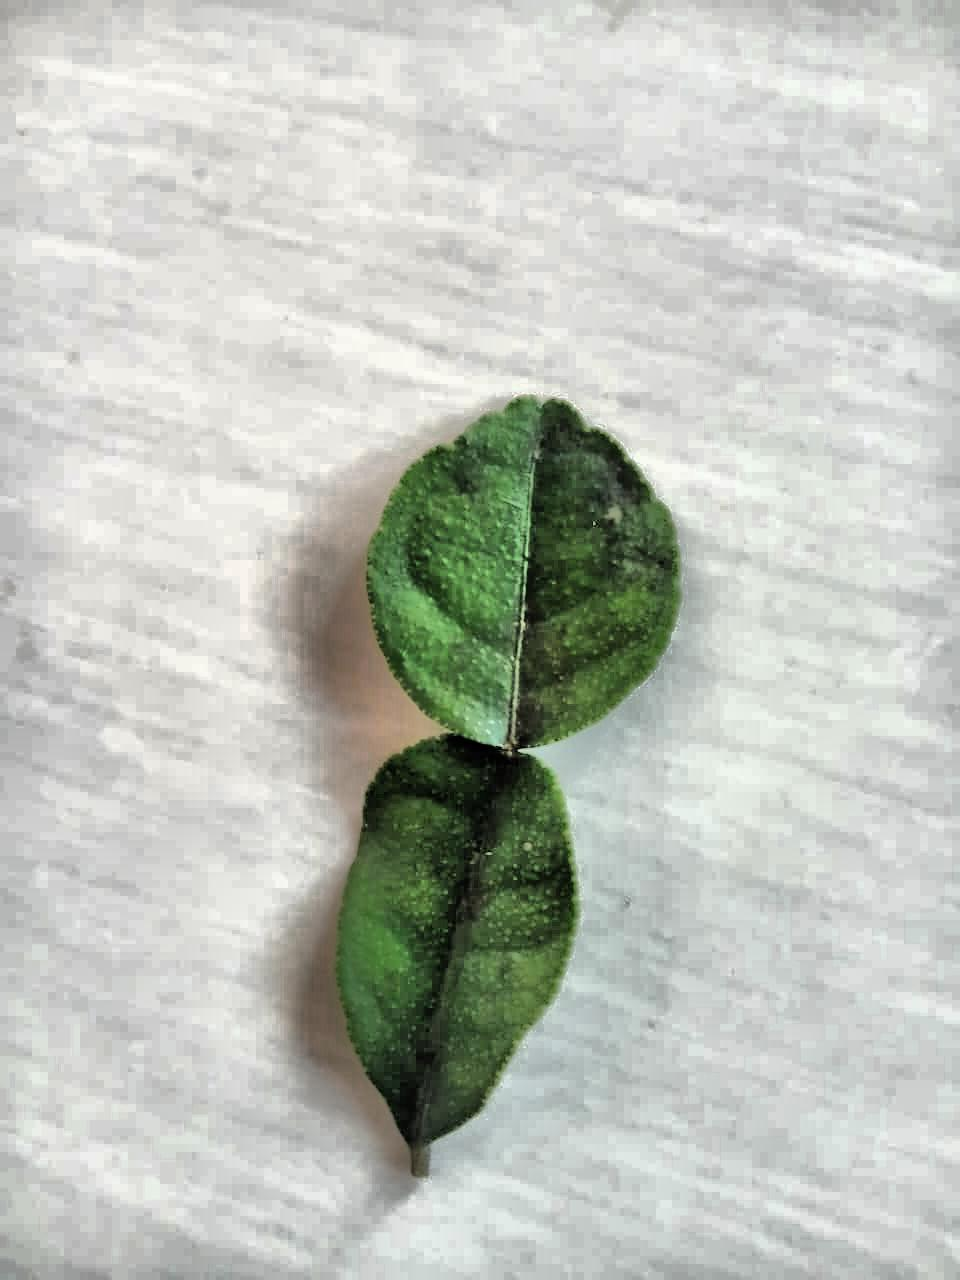daun jeruk: (336, 397, 679, 1175)
